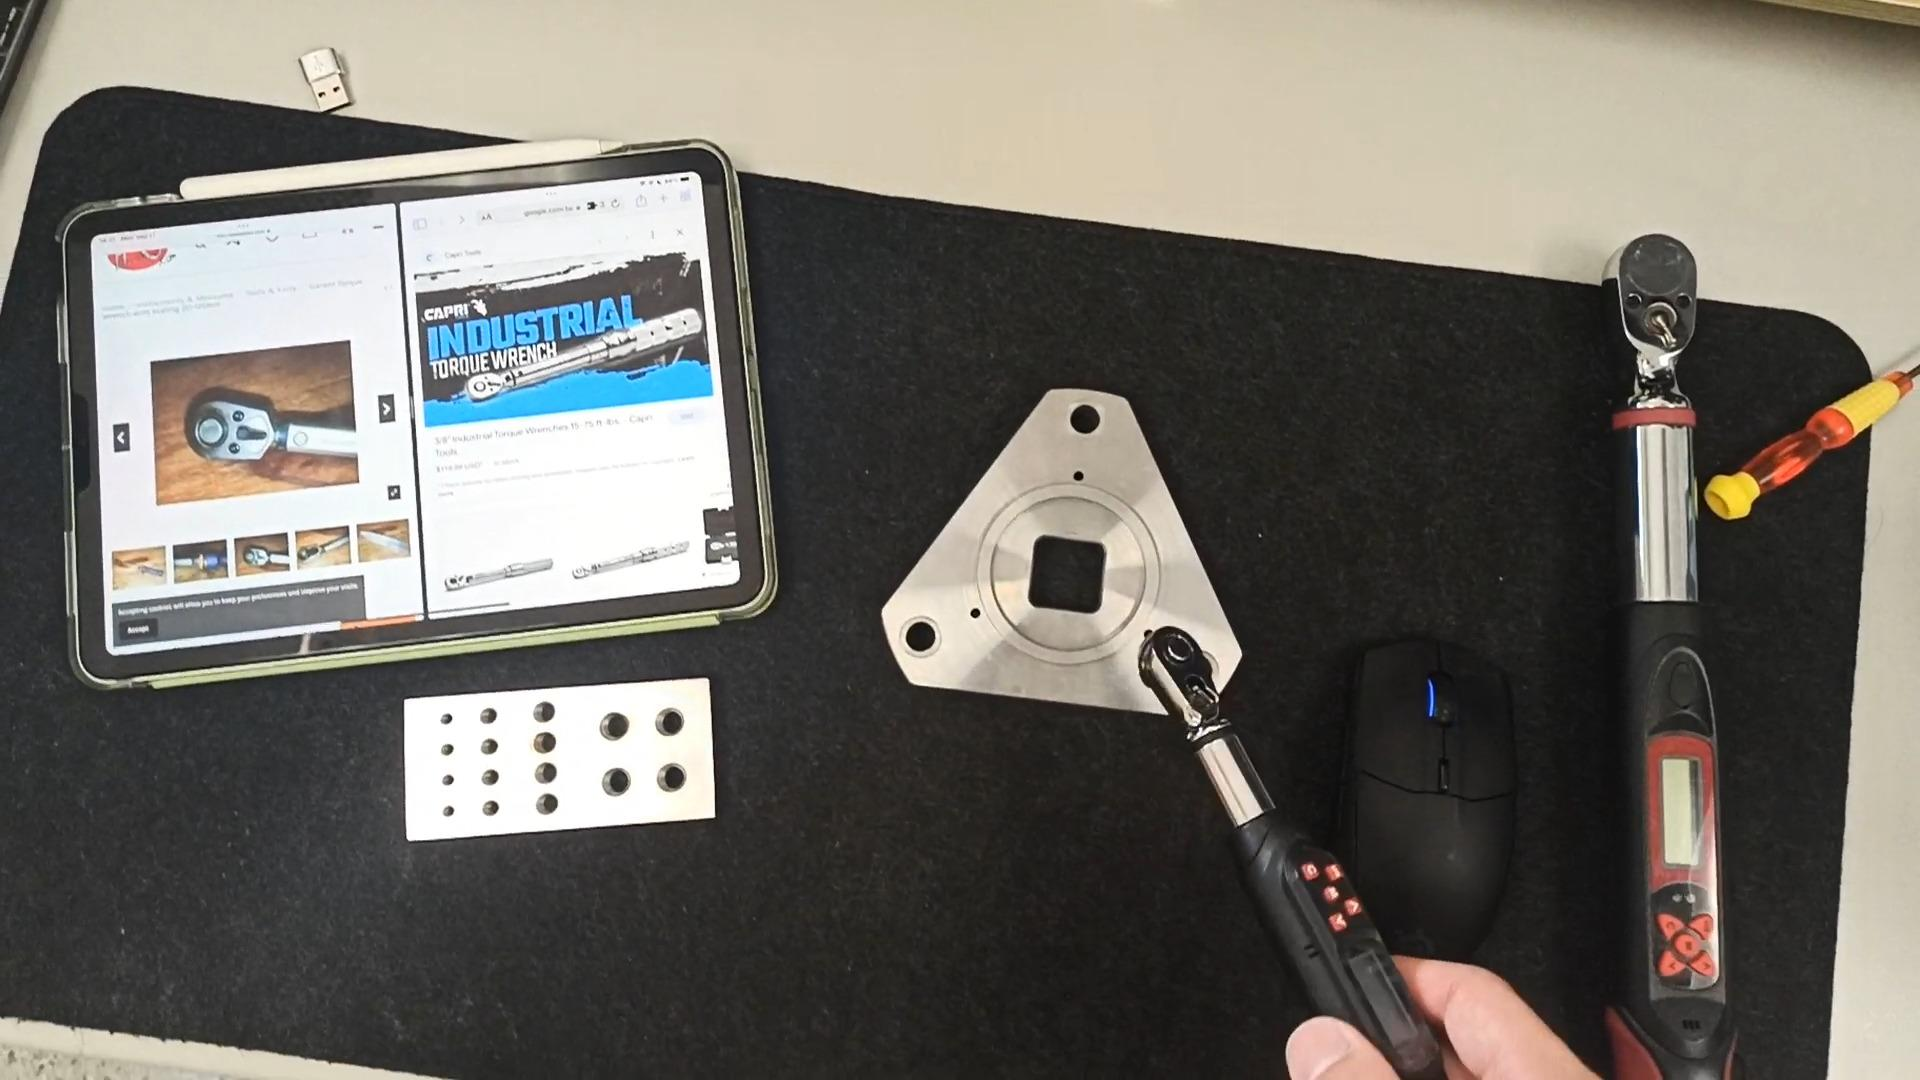Tool: (1587, 217, 1707, 395), (1132, 623, 1232, 732), (180, 387, 287, 482), (455, 367, 510, 413)
hole: (885, 615, 943, 659), (638, 759, 699, 798), (1058, 401, 1115, 442), (643, 703, 702, 737), (587, 762, 643, 797), (584, 705, 641, 739), (518, 728, 566, 755), (516, 696, 563, 723), (520, 757, 565, 783), (519, 793, 563, 818), (467, 703, 505, 723), (468, 736, 504, 757), (471, 766, 506, 787), (471, 799, 506, 818), (425, 741, 456, 759), (426, 770, 456, 787), (427, 804, 456, 820), (426, 709, 454, 725)
